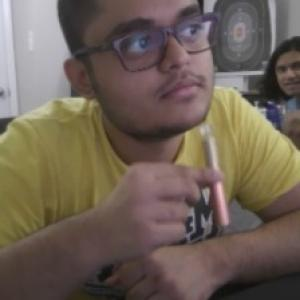Golden-E-Ciggirate: (195, 118, 238, 229)
